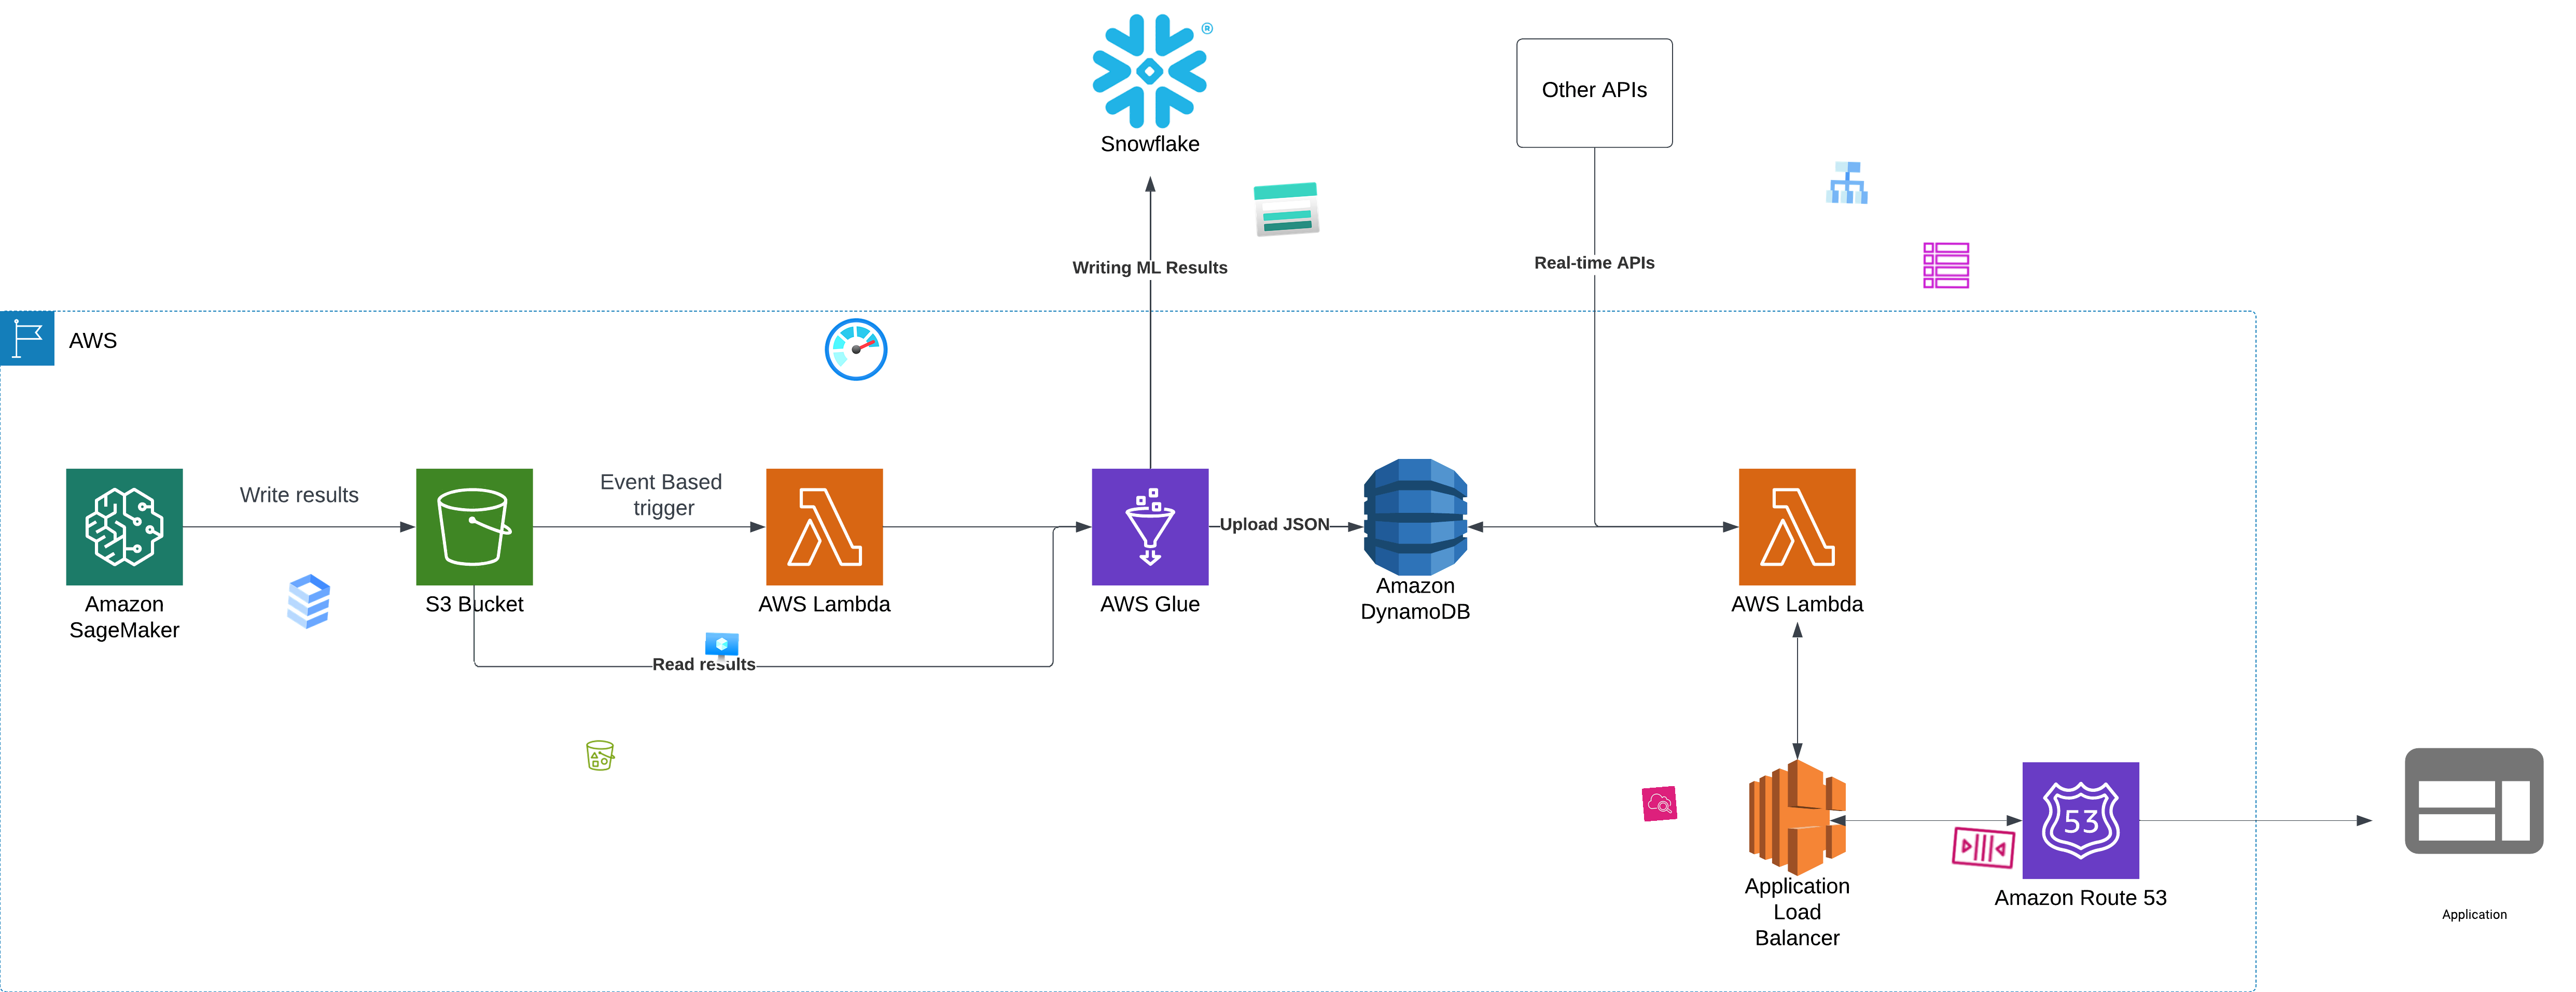aws_amazon_cloudwatch: (1641, 785, 1677, 821)
aws_dynamodb_table: (1921, 240, 1971, 291)
aws_simple_queue_service_queue: (1947, 811, 2021, 884)
aws_simple_storage_service_bucket_with_objects: (583, 739, 618, 772)
azure_monitor: (821, 314, 892, 384)
azure_storage_accounts: (1250, 174, 1322, 245)
azure_virtual_machine: (705, 632, 739, 667)
gcp_cloud_load_balancing: (1822, 156, 1873, 209)
gcp_cloud_sql: (273, 565, 345, 637)
